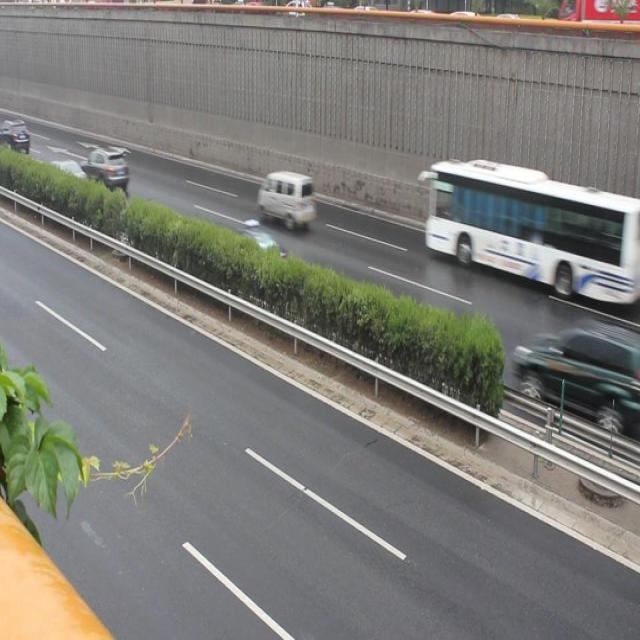car: (510, 317, 630, 418), (228, 217, 287, 277), (79, 144, 130, 195), (44, 154, 88, 198)
truck: (252, 171, 319, 227)
van: (415, 159, 640, 302)
